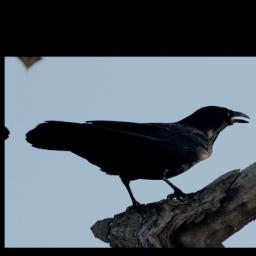Crow: (16, 84, 255, 223)
